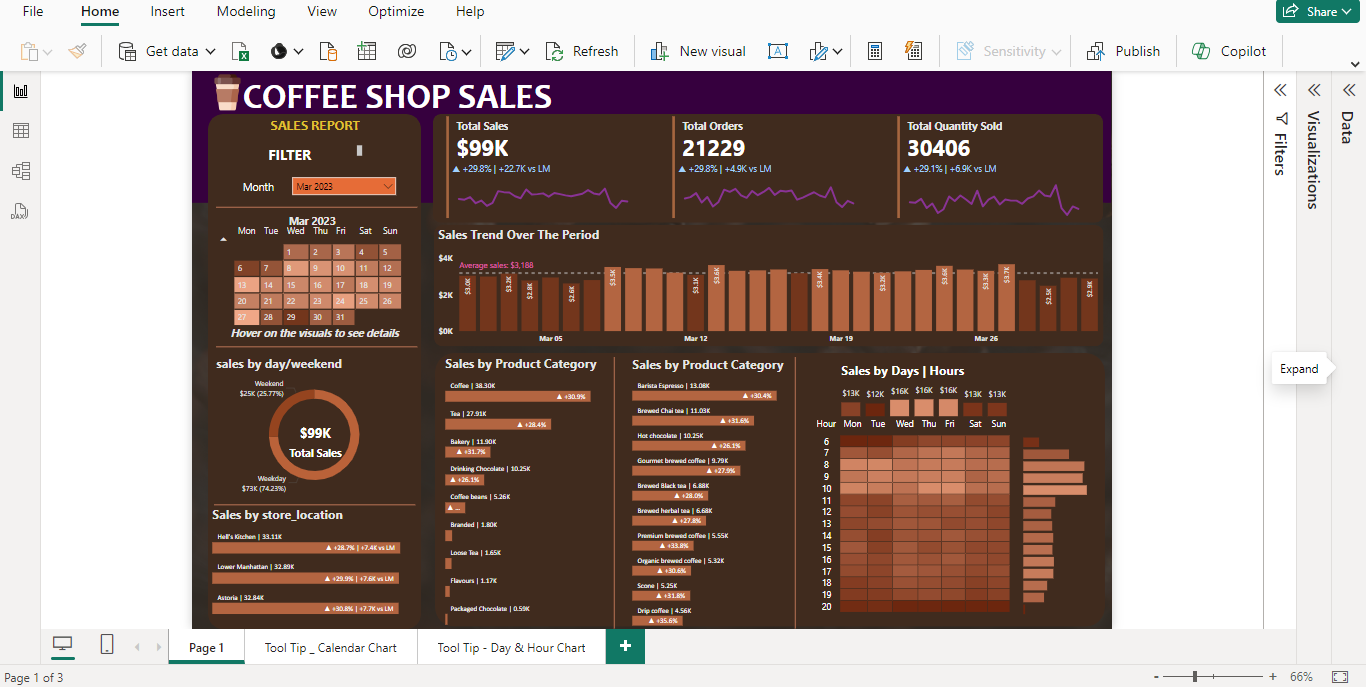

What the dashboard file says about the page in this screenshot:
{"tool":"powerbi","page":{"name":"Page 1","canvas":[1400,850],"ordinal":0},"visuals":[{"type":"shape","box":[370.1,429.9,1020.6,416.8],"z":0},{"type":"shape","box":[0,0,1400.5,200.8],"z":1000},{"type":"shape","box":[25.1,65.3,324.6,784.7],"z":2000},{"type":"shape","box":[366.4,65.3,1020.7,165.6],"z":3000},{"type":"textbox","box":[25.7,0,545.7,77.1],"z":4000},{"type":"cardVisual","fields":{"Data":["Transactions.Total Sales"]},"box":[382,64.7,300,165],"z":4000,"group":"g1"},{"type":"cardVisual","fields":{"Data":["Transactions.Total Orders"]},"box":[726,64.7,300,165],"z":4000,"group":"g2"},{"type":"cardVisual","fields":{"Data":["Transactions.Total Quantity Sold"]},"box":[1070,64.7,300,165],"z":4000,"group":"g3"},{"type":"slicer","fields":{"Values":["Date Table.Month Year"]},"box":[148.3,156.7,168.3,43.3],"z":5000},{"type":"group","id":"g1","title":"Group 1","box":[382,64.7,300,164],"z":6000},{"type":"lineChart","fields":{"Category":["Date Table.Date Hierarchy.Date"],"Y":["Transactions.Total Sales"]},"box":[390.9,140.3,286.7,86.7],"z":6000,"group":"g1"},{"type":"lineChart","fields":{"Category":["Date Table.Date Hierarchy.Date"],"Y":["Transactions.Total Orders"]},"box":[734.9,140.3,286.7,86.7],"z":6000,"group":"g2"},{"type":"lineChart","fields":{"Category":["Date Table.Date Hierarchy.Date"],"Y":["Transactions.Total Quantity Sold"]},"box":[1078.9,140.3,286.7,86.7],"z":6000,"group":"g3"},{"type":"group","id":"g2","title":"Group 1","box":[726,64.7,300,164],"z":7000},{"type":"group","id":"g3","title":"Group 1","box":[1070,64.7,300,164],"z":8000},{"type":"pivotTable","fields":{"Rows":["Date Table.Week Number"],"Columns":["Date Table.Day Name"],"Values":["Min(Date Table.Day Number)"]},"box":[33.3,228.3,305,173.3],"z":8000,"group":"g4"},{"type":"card","fields":{"Values":["Min(Date Table.Month Year)"]},"box":[110.4,209.2,143.9,43.5],"z":9000,"group":"g4"},{"type":"card","fields":{"Values":["Transactions.Foot Note"]},"box":[36.7,360,300,83.3],"z":9000},{"type":"donutChart","title":"sales by day/weekend","fields":{"Category":["Date Table.Weekday / Weekend"],"Y":["Transactions.Total Sales"]},"box":[31.7,433.3,308.3,218.3],"z":10000},{"type":"group","id":"g4","title":"Group 2","box":[33.3,185,310,258.3],"z":11000},{"type":"shape","box":[36.6,398.3,306.7,45],"z":11000,"group":"g4"},{"type":"shape","box":[36.6,185,306.7,46.7],"z":12000,"group":"g4"},{"type":"shape","box":[621.2,436.2,43.8,413.8],"z":12000},{"type":"card","fields":{"Values":["Transactions.Total Sales"]},"box":[130,521.7,116.7,85],"z":13000},{"type":"shape","box":[33.3,638.3,306.7,45],"z":14000},{"type":"clusteredBarChart","title":" Sales by store_location","fields":{"Category":["Transactions.store_location"],"Y":["Transactions.Placeholder","Transactions.Total Sales"]},"box":[26,662,320,172],"z":15000},{"type":"shape","box":[368.3,235,1020,185],"z":16000},{"type":"columnChart","title":"Sales Trend Over The Period","fields":{"Category":["Transactions.transaction_date"],"Y":["Transactions.Total Sales"]},"box":[369.8,235.9,1020.7,189.1],"z":17000},{"type":"clusteredBarChart","title":" Sales by Product Category","fields":{"Y":["Transactions.Placeholder","Transactions.Total Sales"],"Category":["Transactions.product_category"]},"box":[381.5,433.4,254.3,416.6],"z":18000},{"type":"clusteredBarChart","title":" Sales by Product Category","fields":{"Y":["Transactions.Placeholder","Transactions.Total Sales"],"Category":["Transactions.product_type"]},"box":[665,433.8,255,416.2],"z":19000},{"type":"shape","box":[897.5,436.2,43.8,413.8],"z":20000},{"type":"pivotTable","fields":{"Values":["Transactions.Total Sales"],"Columns":["Date Table.Day Name"],"Rows":["Transactions.Hour"]},"box":[941.4,524.3,350,308.6],"z":21000},{"type":"barChart","fields":{"Category":["Transactions.Hour"],"Y":["Transactions.Total Sales"]},"box":[1261.4,545.7,125.7,287.1],"z":22000},{"type":"columnChart","title":"Sales by Days | Hours","fields":{"Y":["Transactions.Total Sales"],"Category":["Date Table.Day Name"]},"box":[984.3,442.9,262.9,88.6],"z":23000},{"type":"textbox","box":[55,161.7,108.3,41.7],"z":24000},{"type":"textbox","box":[110,65,166.7,38.3],"z":25000},{"type":"textbox","box":[111.7,108.3,153.3,40],"z":26000},{"type":"image","box":[5,0,98.3,65],"z":27000}]}

Visuals, with their boxes on the page's 1400x850 design canvas (x1, y1, x2, y2). These are canvas units, not pixel positions in the 1366x687 screenshot, which may show the page scaled, cropped or inside an application window:
shape: (370, 430, 1391, 847)
shape: (0, 0, 1400, 201)
shape: (25, 65, 350, 850)
shape: (366, 65, 1387, 231)
textbox: (26, 0, 571, 77)
cardVisual - Transactions.Total Sales: (382, 65, 682, 230)
cardVisual - Transactions.Total Orders: (726, 65, 1026, 230)
cardVisual - Transactions.Total Quantity Sold: (1070, 65, 1370, 230)
slicer - Date Table.Month Year: (148, 157, 317, 200)
"Group 1" group: (382, 65, 682, 229)
lineChart - Date Table.Date Hierarchy.Date x Transactions.Total Sales: (391, 140, 678, 227)
lineChart - Date Table.Date Hierarchy.Date x Transactions.Total Orders: (735, 140, 1022, 227)
lineChart - Date Table.Date Hierarchy.Date x Transactions.Total Quantity Sold: (1079, 140, 1366, 227)
"Group 1" group: (726, 65, 1026, 229)
"Group 1" group: (1070, 65, 1370, 229)
pivotTable - Date Table.Week Number x Date Table.Day Name: (33, 228, 338, 402)
card - Min(Date Table.Month Year): (110, 209, 254, 253)
card - Transactions.Foot Note: (37, 360, 337, 443)
"sales by day/weekend" donutChart: (32, 433, 340, 652)
"Group 2" group: (33, 185, 343, 443)
shape: (37, 398, 343, 443)
shape: (37, 185, 343, 232)
shape: (621, 436, 665, 850)
card - Transactions.Total Sales: (130, 522, 247, 607)
shape: (33, 638, 340, 683)
" Sales by store_location" clusteredBarChart: (26, 662, 346, 834)
shape: (368, 235, 1388, 420)
"Sales Trend Over The Period" columnChart: (370, 236, 1390, 425)
" Sales by Product Category" clusteredBarChart: (382, 433, 636, 850)
" Sales by Product Category" clusteredBarChart: (665, 434, 920, 850)
shape: (898, 436, 941, 850)
pivotTable - Transactions.Total Sales x Date Table.Day Name: (941, 524, 1291, 833)
barChart - Transactions.Hour x Transactions.Total Sales: (1261, 546, 1387, 833)
"Sales by Days | Hours" columnChart: (984, 443, 1247, 532)
textbox: (55, 162, 163, 203)
textbox: (110, 65, 277, 103)
textbox: (112, 108, 265, 148)
image: (5, 0, 103, 65)
